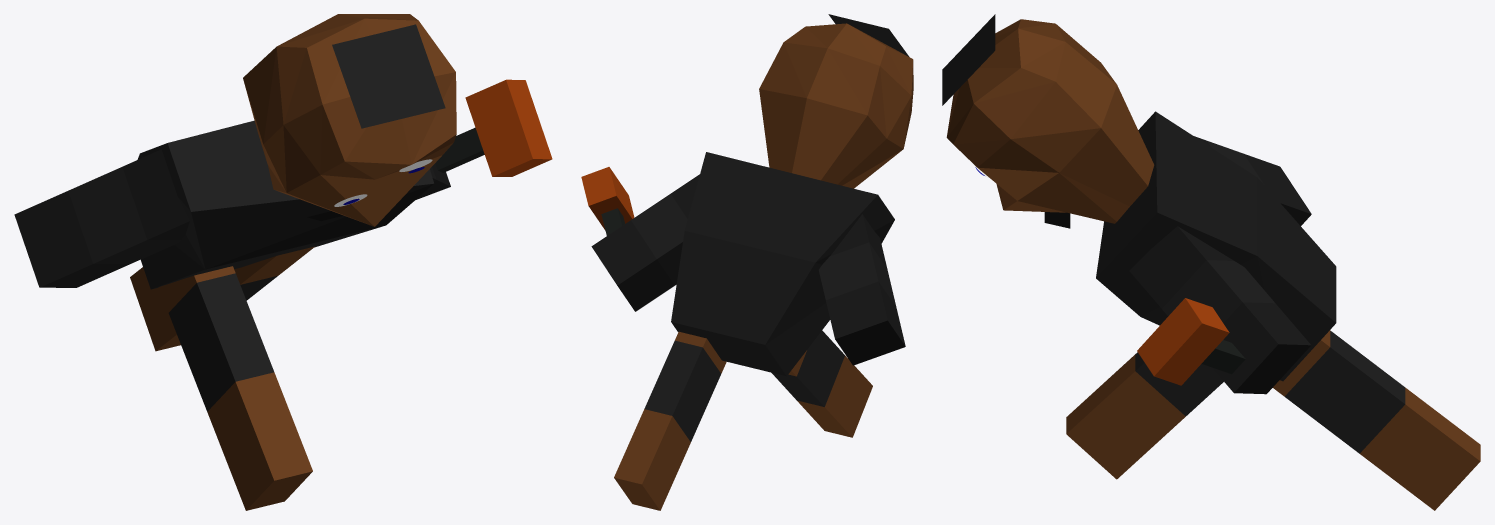
File: servant1f.obj
The picture shows the model from 3 angles, left to right: view 1: azimuth 30°, elevation 25°; view 2: azimuth 150°, elevation 25°; view 3: azimuth 270°, elevation 25°; orthographic projection. The views are drawn at different scales.
Parts seen in each view (by area): view 1: Cube, Cube.001, Cube.004, Cube.003, Plane.002, Cube.008, Cube.005, Cube.007; view 2: Cube.001, Cube, Cube.005, Cube.003, Cube.002, Cube.004, Cube.008, Plane.002, Cube.007; view 3: Cube, Cube.001, Cube.005, Cube.002, Cube.004, Cube.008, Cube.003, Plane.002, Cube.007.
Part boxes in pixels (x1=…): Cube: x1=243, y1=14, x2=456, y2=226; Cube.001: x1=137, y1=120, x2=433, y2=289; Cube.004: x1=158, y1=266, x2=312, y2=510; Cube.003: x1=14, y1=149, x2=189, y2=287; Plane.002: x1=332, y1=24, x2=445, y2=128; Cube.008: x1=465, y1=79, x2=552, y2=176; Cube.005: x1=130, y1=246, x2=314, y2=351; Cube.007: x1=435, y1=127, x2=484, y2=172; Cube.001: x1=671, y1=152, x2=894, y2=376; Cube: x1=759, y1=23, x2=913, y2=188; Cube.005: x1=614, y1=331, x2=726, y2=510; Cube.003: x1=818, y1=214, x2=905, y2=365; Cube.002: x1=591, y1=174, x2=699, y2=311; Cube.004: x1=771, y1=330, x2=872, y2=437; Cube.008: x1=581, y1=167, x2=634, y2=230; Plane.002: x1=828, y1=14, x2=909, y2=56; Cube.007: x1=601, y1=208, x2=624, y2=235; Cube: x1=946, y1=19, x2=1154, y2=223; Cube.001: x1=1096, y1=111, x2=1336, y2=381; Cube.005: x1=1273, y1=330, x2=1480, y2=510; Cube.002: x1=1129, y1=226, x2=1311, y2=394; Cube.004: x1=1066, y1=352, x2=1223, y2=479; Cube.008: x1=1137, y1=298, x2=1229, y2=385; Cube.003: x1=1194, y1=136, x2=1311, y2=225; Plane.002: x1=942, y1=14, x2=995, y2=105; Cube.007: x1=1201, y1=340, x2=1245, y2=374.
Bounding box in the file's own units: 4.16 × 4.4 × 4.65.
